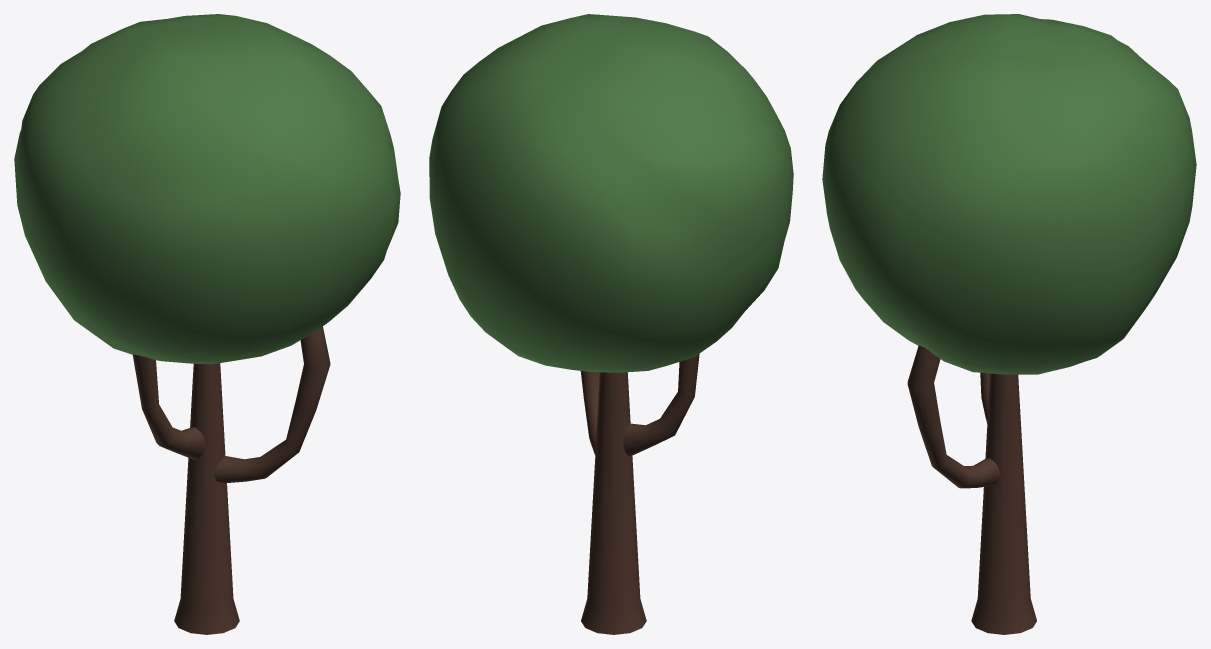
Rendered from Tree_01_Mesh.fbx.
3 renders of one model, left to right at view 1: azimuth 30°, elevation 25°; view 2: azimuth 150°, elevation 25°; view 3: azimuth 270°, elevation 25°, orthographic.
Parts seen in each view (by area): view 1: Cylinder; view 2: Cylinder; view 3: Cylinder.
Boxes of the visible parts, x1=… form: Cylinder: x1=14, y1=14, x2=400, y2=634; Cylinder: x1=429, y1=14, x2=793, y2=634; Cylinder: x1=822, y1=14, x2=1196, y2=634.
Bounding box in the file's own units: 1696 × 1705 × 2923.
